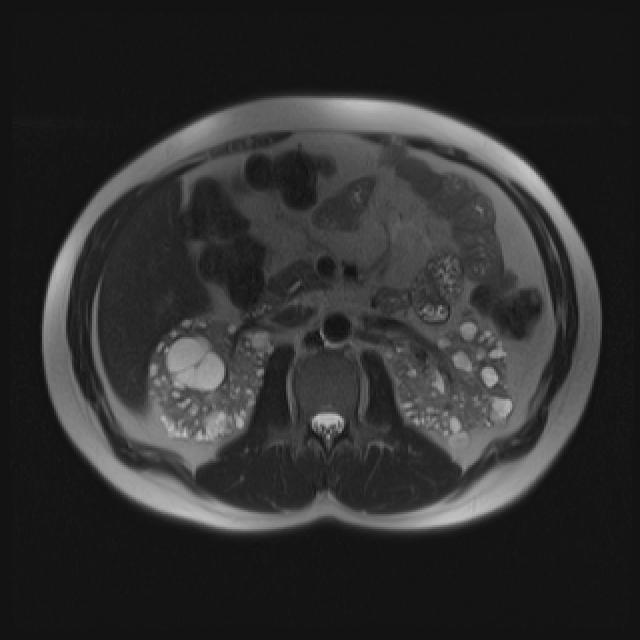sag: (147, 314, 276, 444)
sol: (385, 303, 515, 450)
